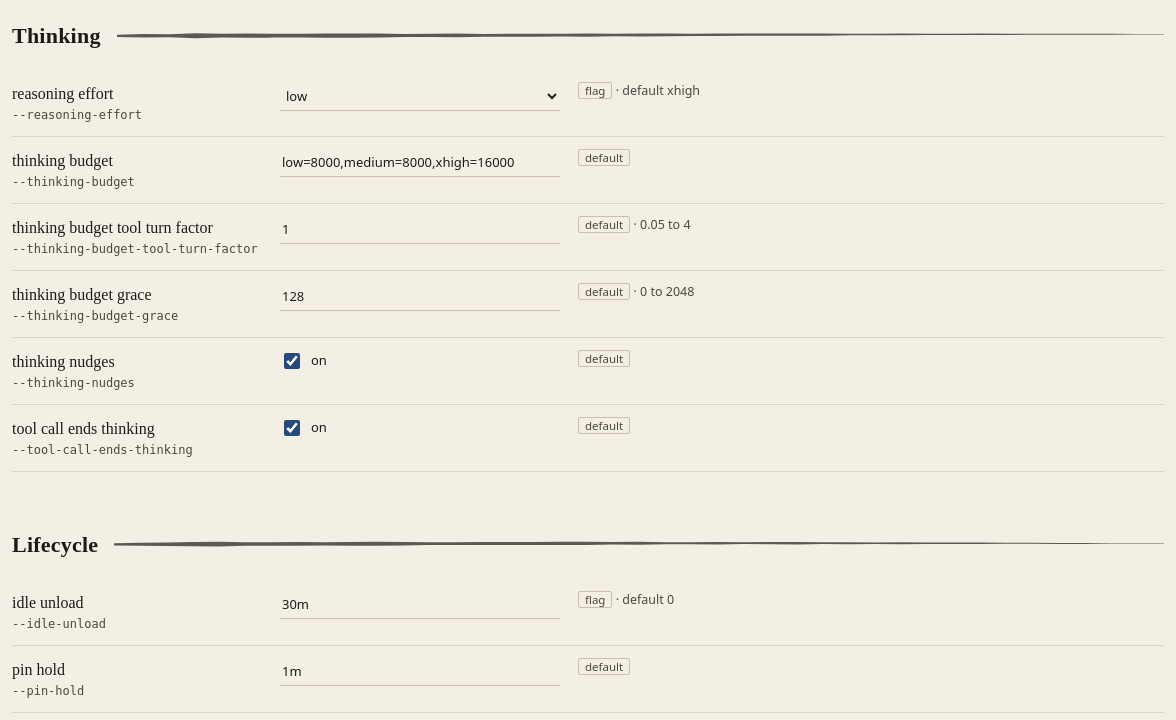
it: SettingsView › a refused toggle snaps back to the stored value and shows the refusal
This screenshot has width=1176, height=720.
(page scrolled)
Click the 1st checkbox labelled "on" at (292, 360), box [284,352,300,368]
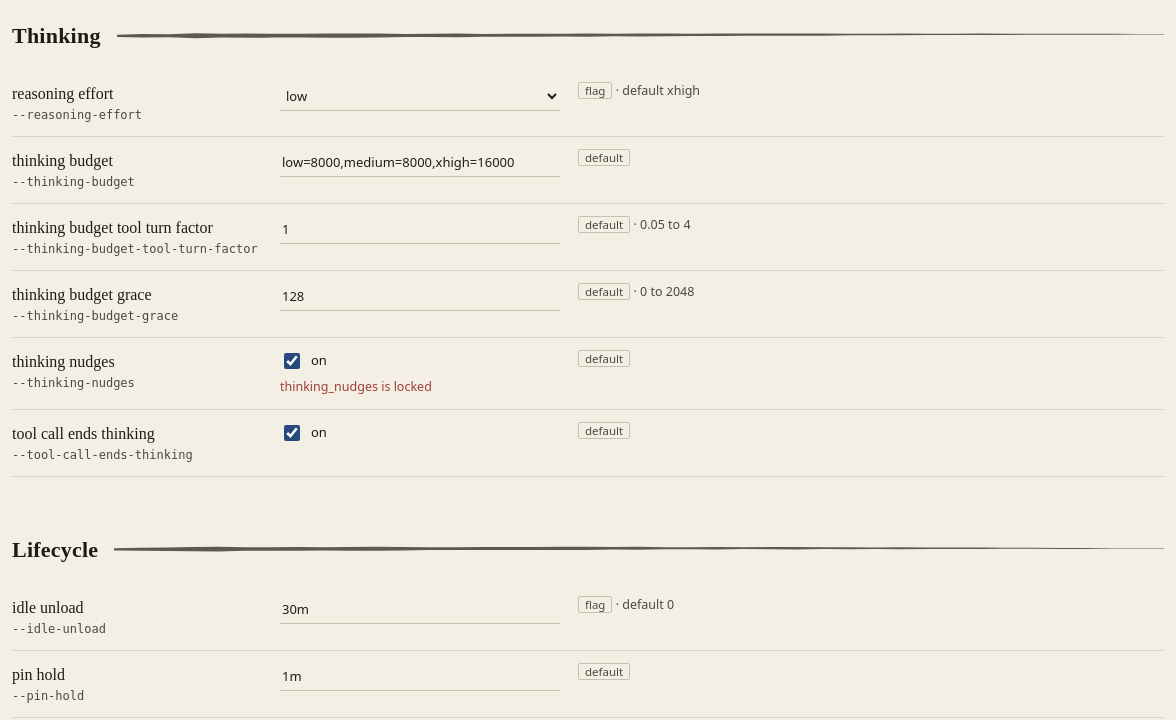
Expected: the message "thinking_nudges is locked" is shown, [280,378,432,395]
